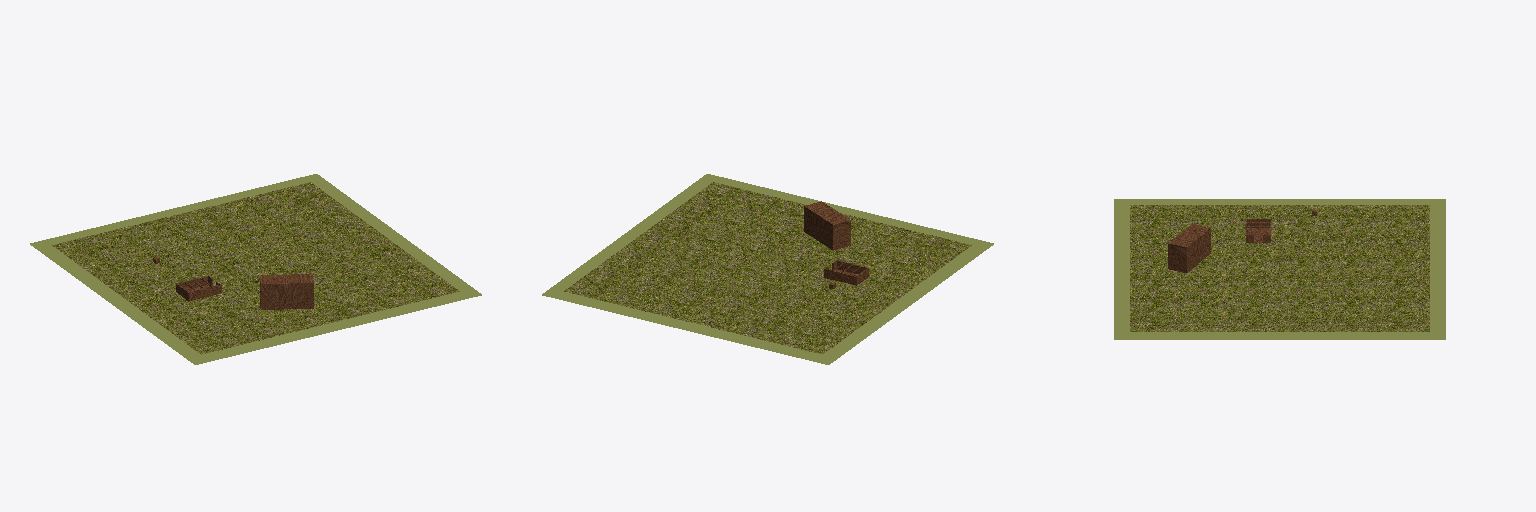
3 views of the same model, side by side, from view 1: azimuth 30°, elevation 25°; view 2: azimuth 150°, elevation 25°; view 3: azimuth 270°, elevation 25° (orthographic).
Parts seen in each view (by area): view 1: Grid; view 2: Grid; view 3: Grid.
Boxes of the visible parts, x1,y1,x2,y2 form: Grid: [30, 174, 481, 364]; Grid: [542, 174, 993, 364]; Grid: [1114, 199, 1445, 339].
Bounding box in the file's own units: 140 × 12.5 × 140.
Materials: 2 (2 with a texture image).